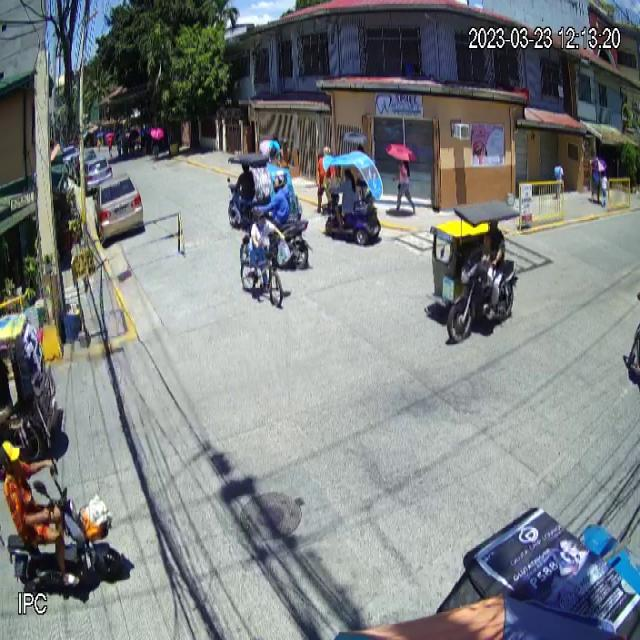Tricycle: (426, 198, 520, 343)
